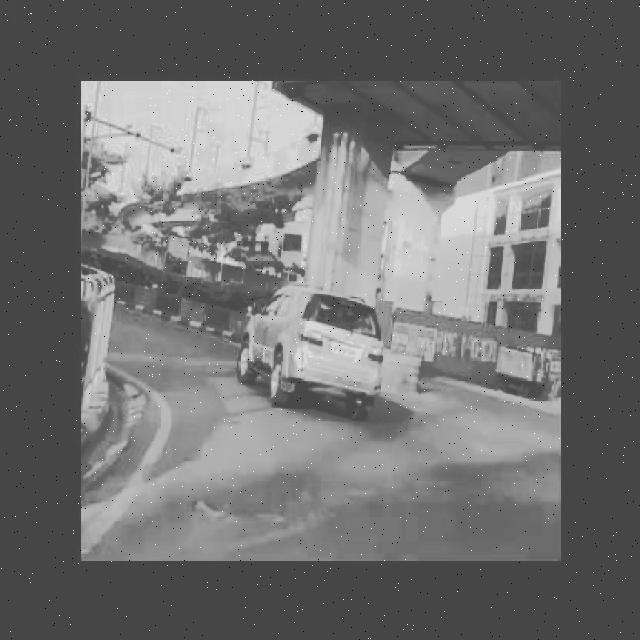Car: (224, 279, 396, 426)
